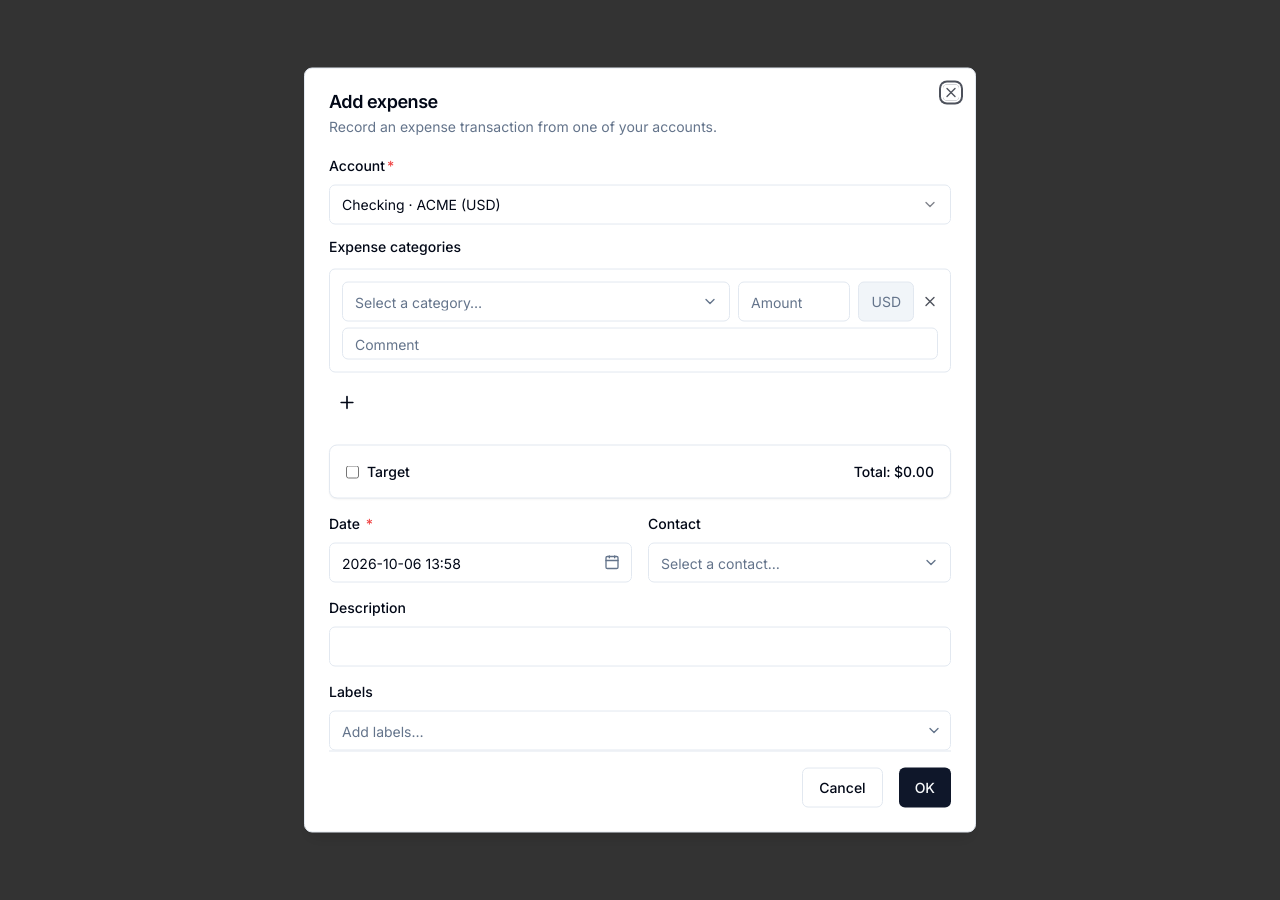
Test: CreateExpenseDialog › blocks submitting an expense that exceeds the account available balance
expect the dialog "Add expense" is shown: met, box top-left (304, 68), bottom-right (976, 832)
expect the dropdown named "account" is shown: met, box top-left (329, 184), bottom-right (951, 224)
Click the dropdown labelled "Select a category…": (536, 302) top-left (342, 282), bottom-right (730, 322)
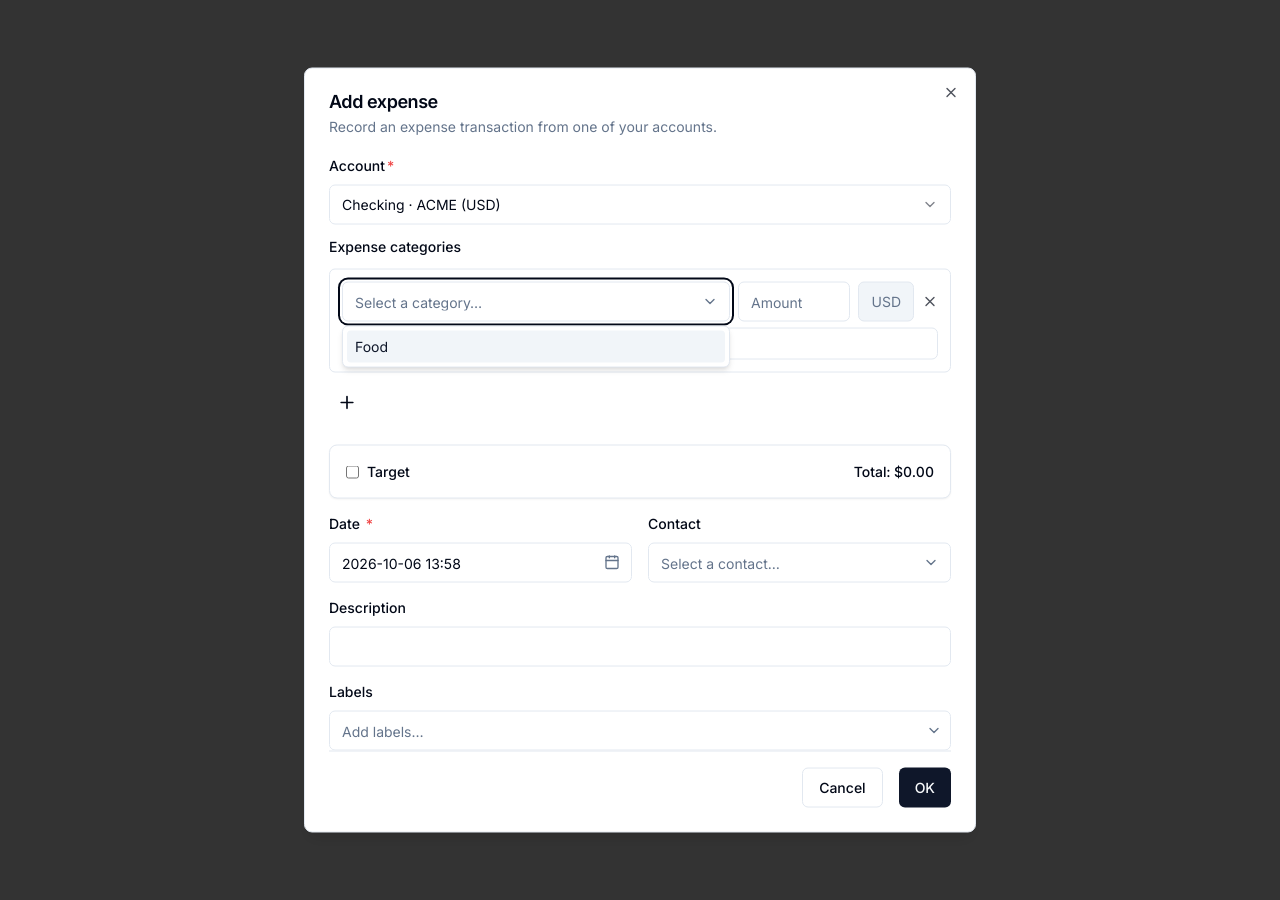
Click the option "Food": (372, 346) top-left (347, 330), bottom-right (725, 362)
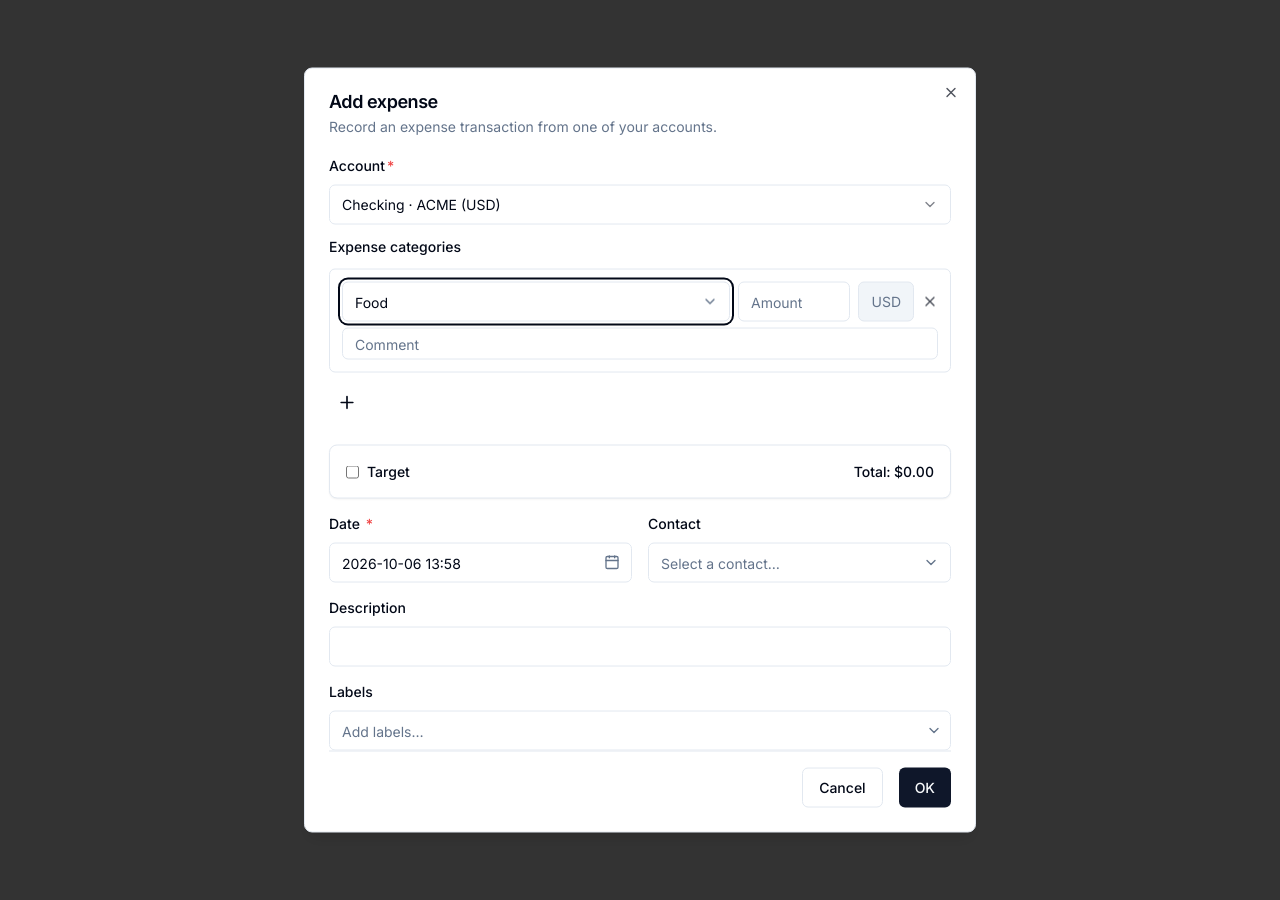
In the number field labelled "Amount": (794, 302) top-left (738, 282), bottom-right (850, 322), type "150"
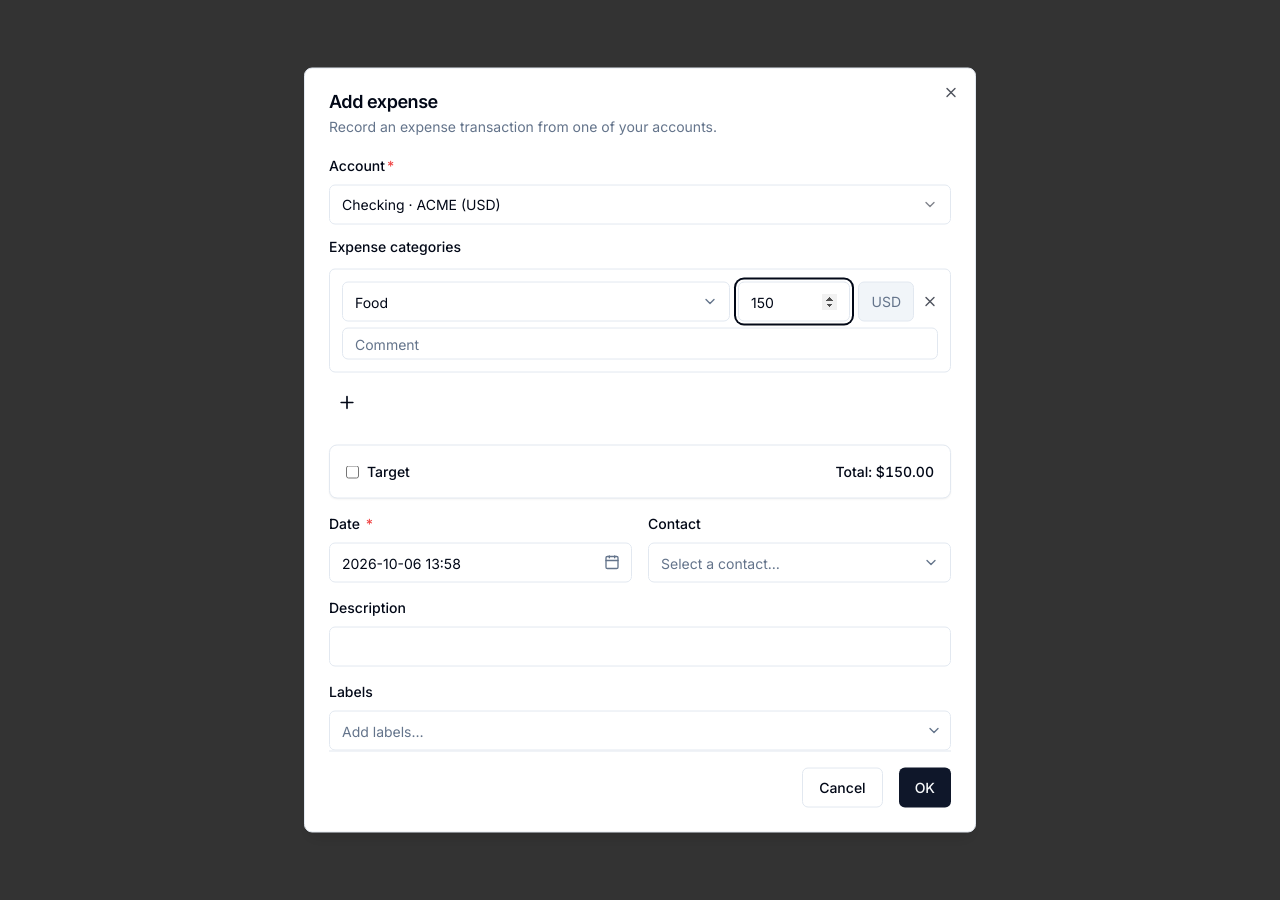
In the field labelled "Description": (640, 646) top-left (329, 626), bottom-right (951, 666), type "Groceries"
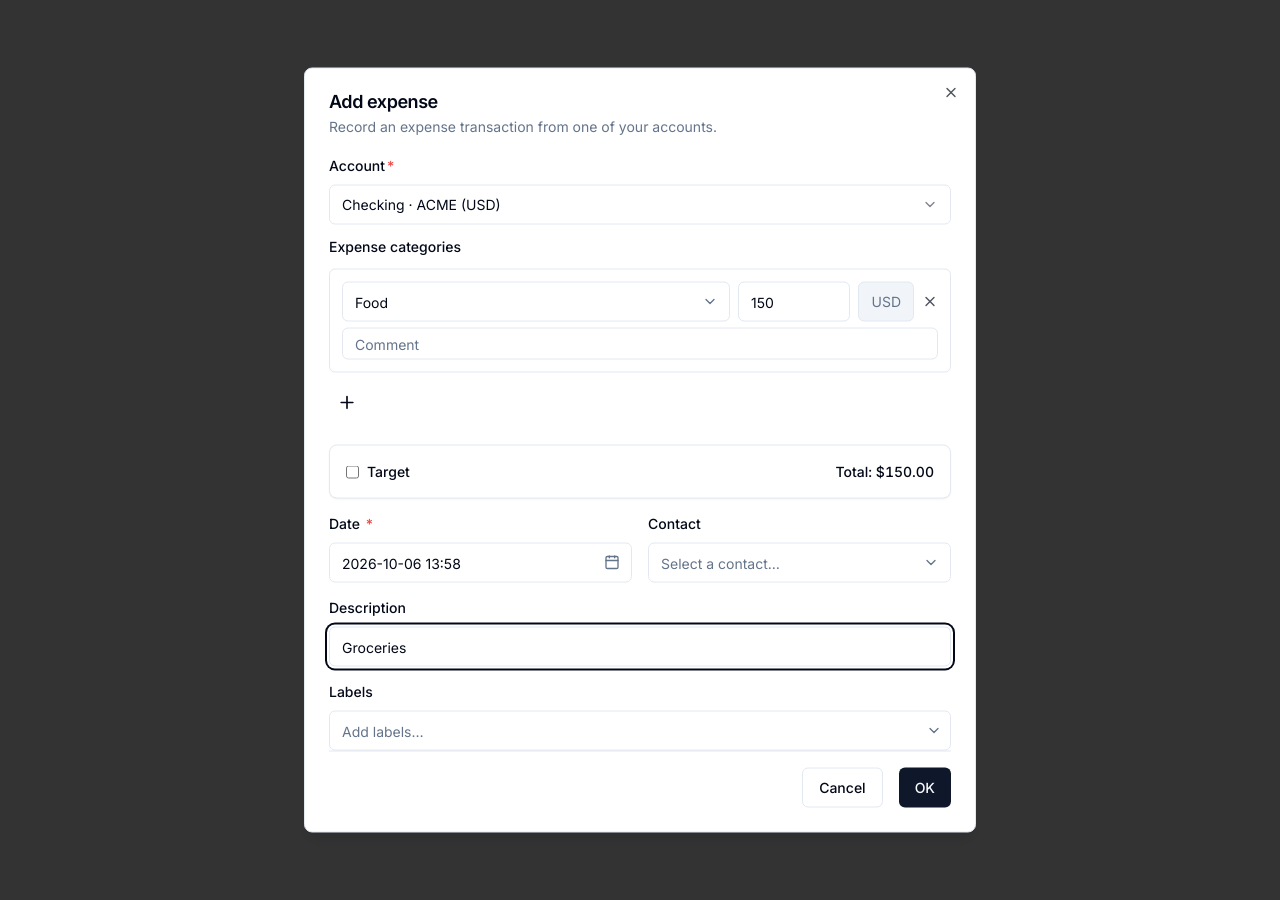
Click the button "OK": (925, 788) top-left (899, 768), bottom-right (951, 808)
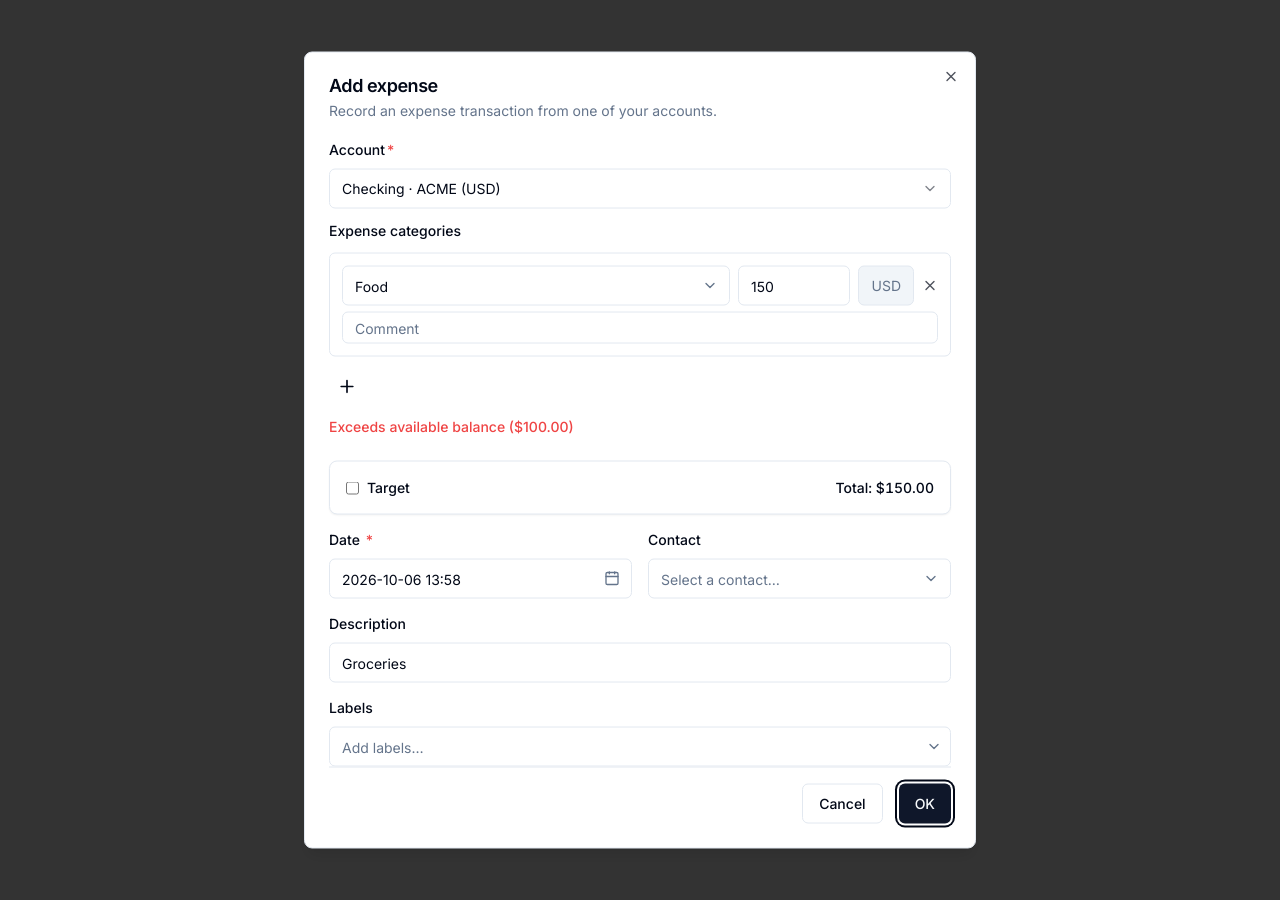
expect the dialog is shown: met, box top-left (304, 52), bottom-right (976, 848)
expect the text "Exceeds available balance ($100.00)" is shown: met, box top-left (329, 418), bottom-right (574, 434)
